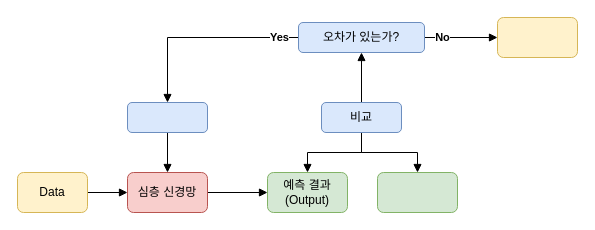
Some shapes in this 595 by 230 pixel diagram are drawn without their labels. The shapes that lost their labels are listed below. From the top down, each one's centre as x and y in pixels, then its label:
point (537, 37): 성공
point (167, 117): 다시 학습
point (417, 192): 실제 정답
